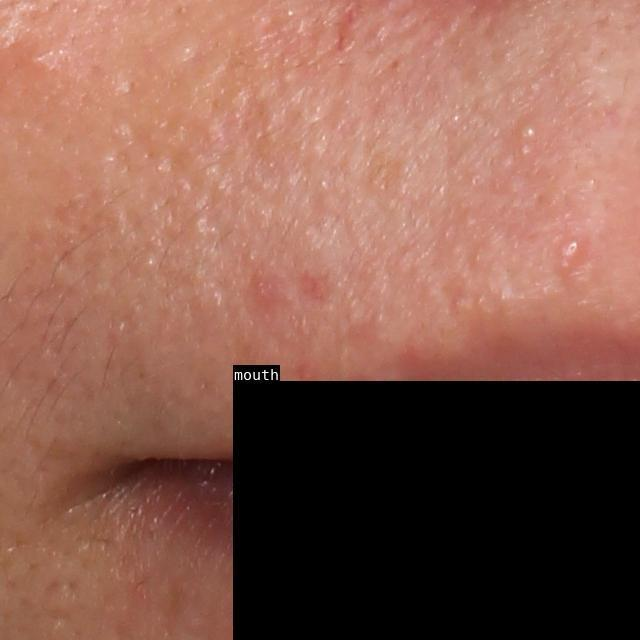comedo: (20, 43, 57, 80)
